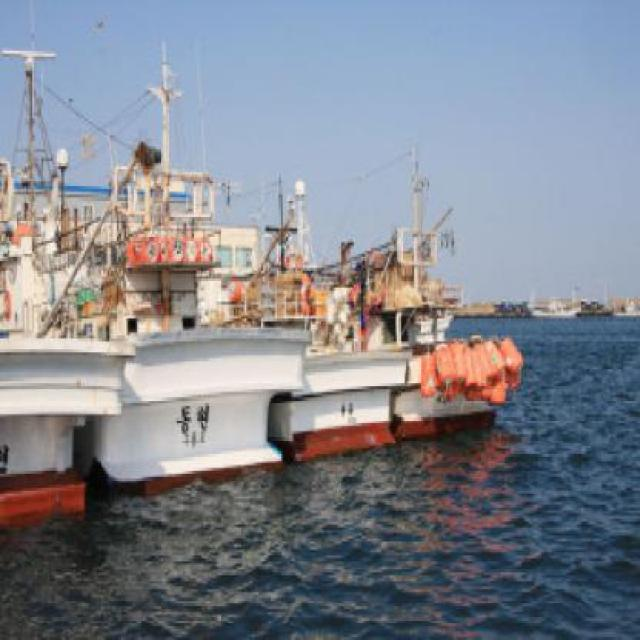fish-b: (100, 34, 325, 517), (1, 32, 136, 551), (251, 173, 409, 490)
